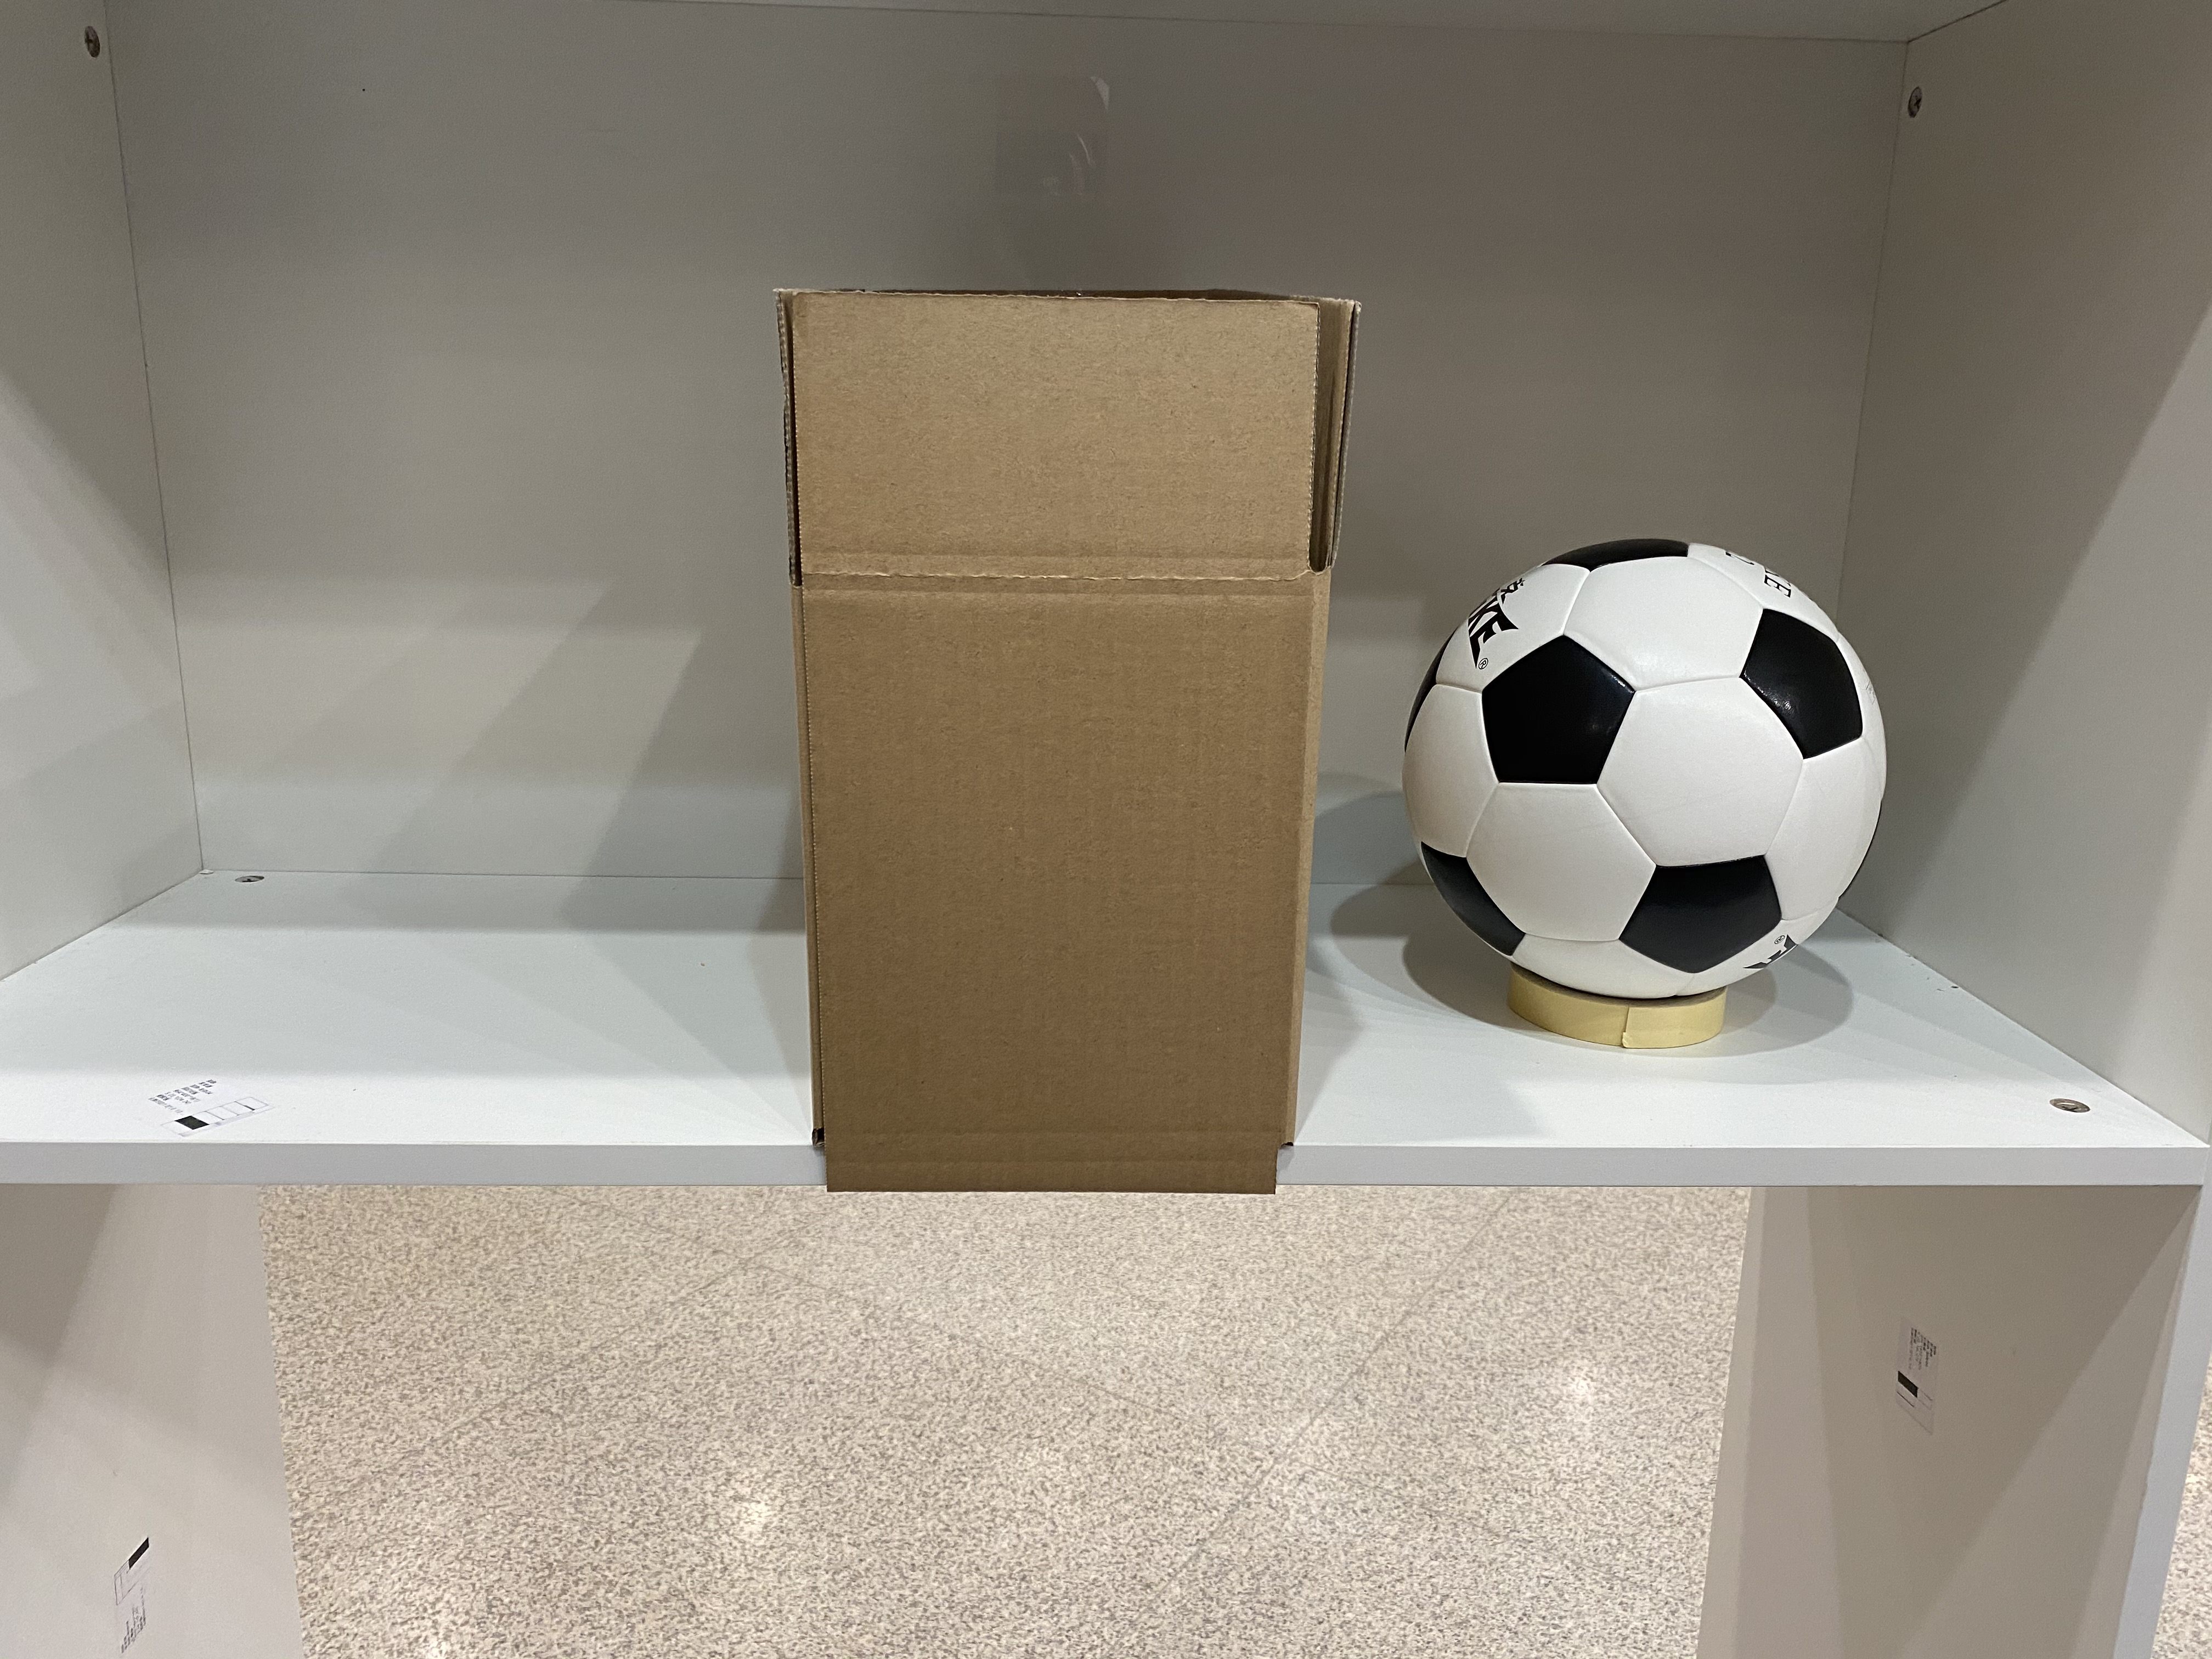football: (1409, 528, 1883, 993)
